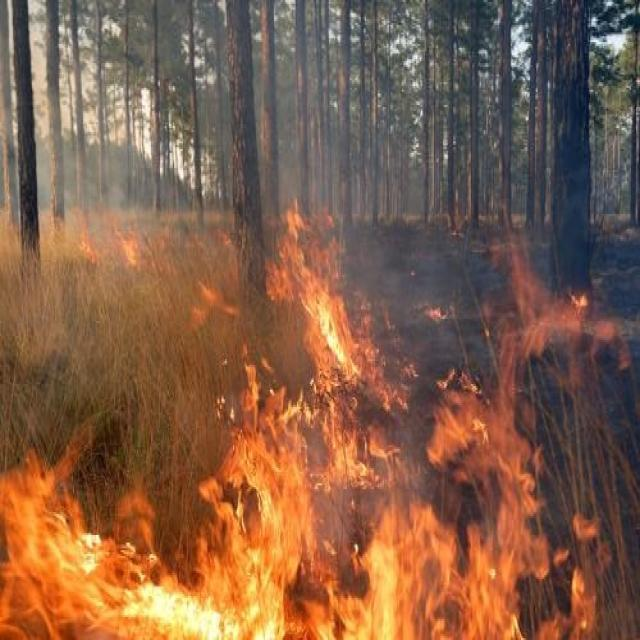Fire: (1, 195, 640, 640)
